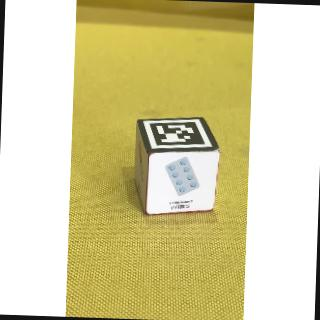Tablet: (146, 149, 223, 221)
